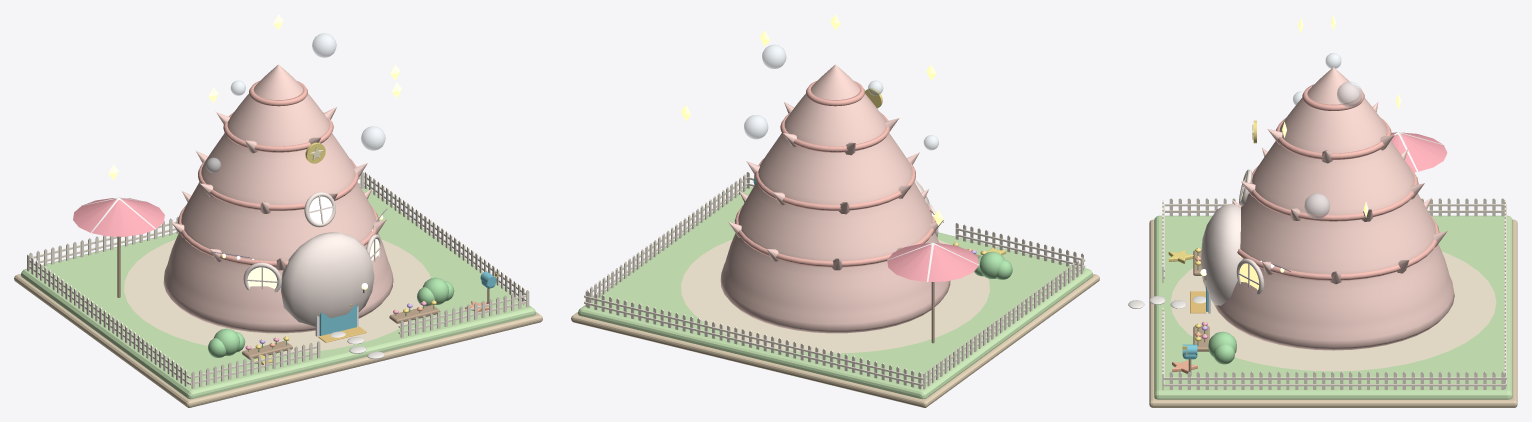
File: building_ocean_L10.glb
The picture shows the model from 3 angles, left to right: view 1: azimuth 30°, elevation 25°; view 2: azimuth 150°, elevation 25°; view 3: azimuth 270°, elevation 25°; orthographic projection. The views are drawn at different scales.
Parts seen in each view (by area): view 1: ocean_L10, object 8, object 6; view 2: ocean_L10, object 8, object 6; view 3: ocean_L10, object 8, object 6.
Part boxes in pixels (bbox=[...]): ocean_L10: bbox=[14, 14, 542, 407]; object 8: bbox=[312, 33, 336, 57]; object 6: bbox=[361, 126, 385, 150]; ocean_L10: bbox=[571, 14, 1099, 407]; object 8: bbox=[762, 44, 786, 68]; object 6: bbox=[744, 115, 768, 139]; ocean_L10: bbox=[1128, 14, 1517, 407]; object 8: bbox=[1337, 81, 1362, 107]; object 6: bbox=[1304, 193, 1329, 218].
Bounding box in the file's own units: 26.61 × 20.56 × 23.89.
